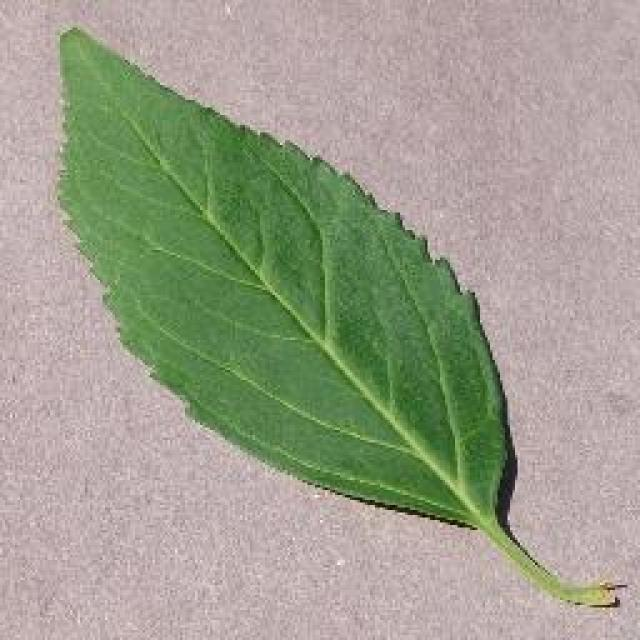Cherry___healthy: (42, 15, 622, 627)
